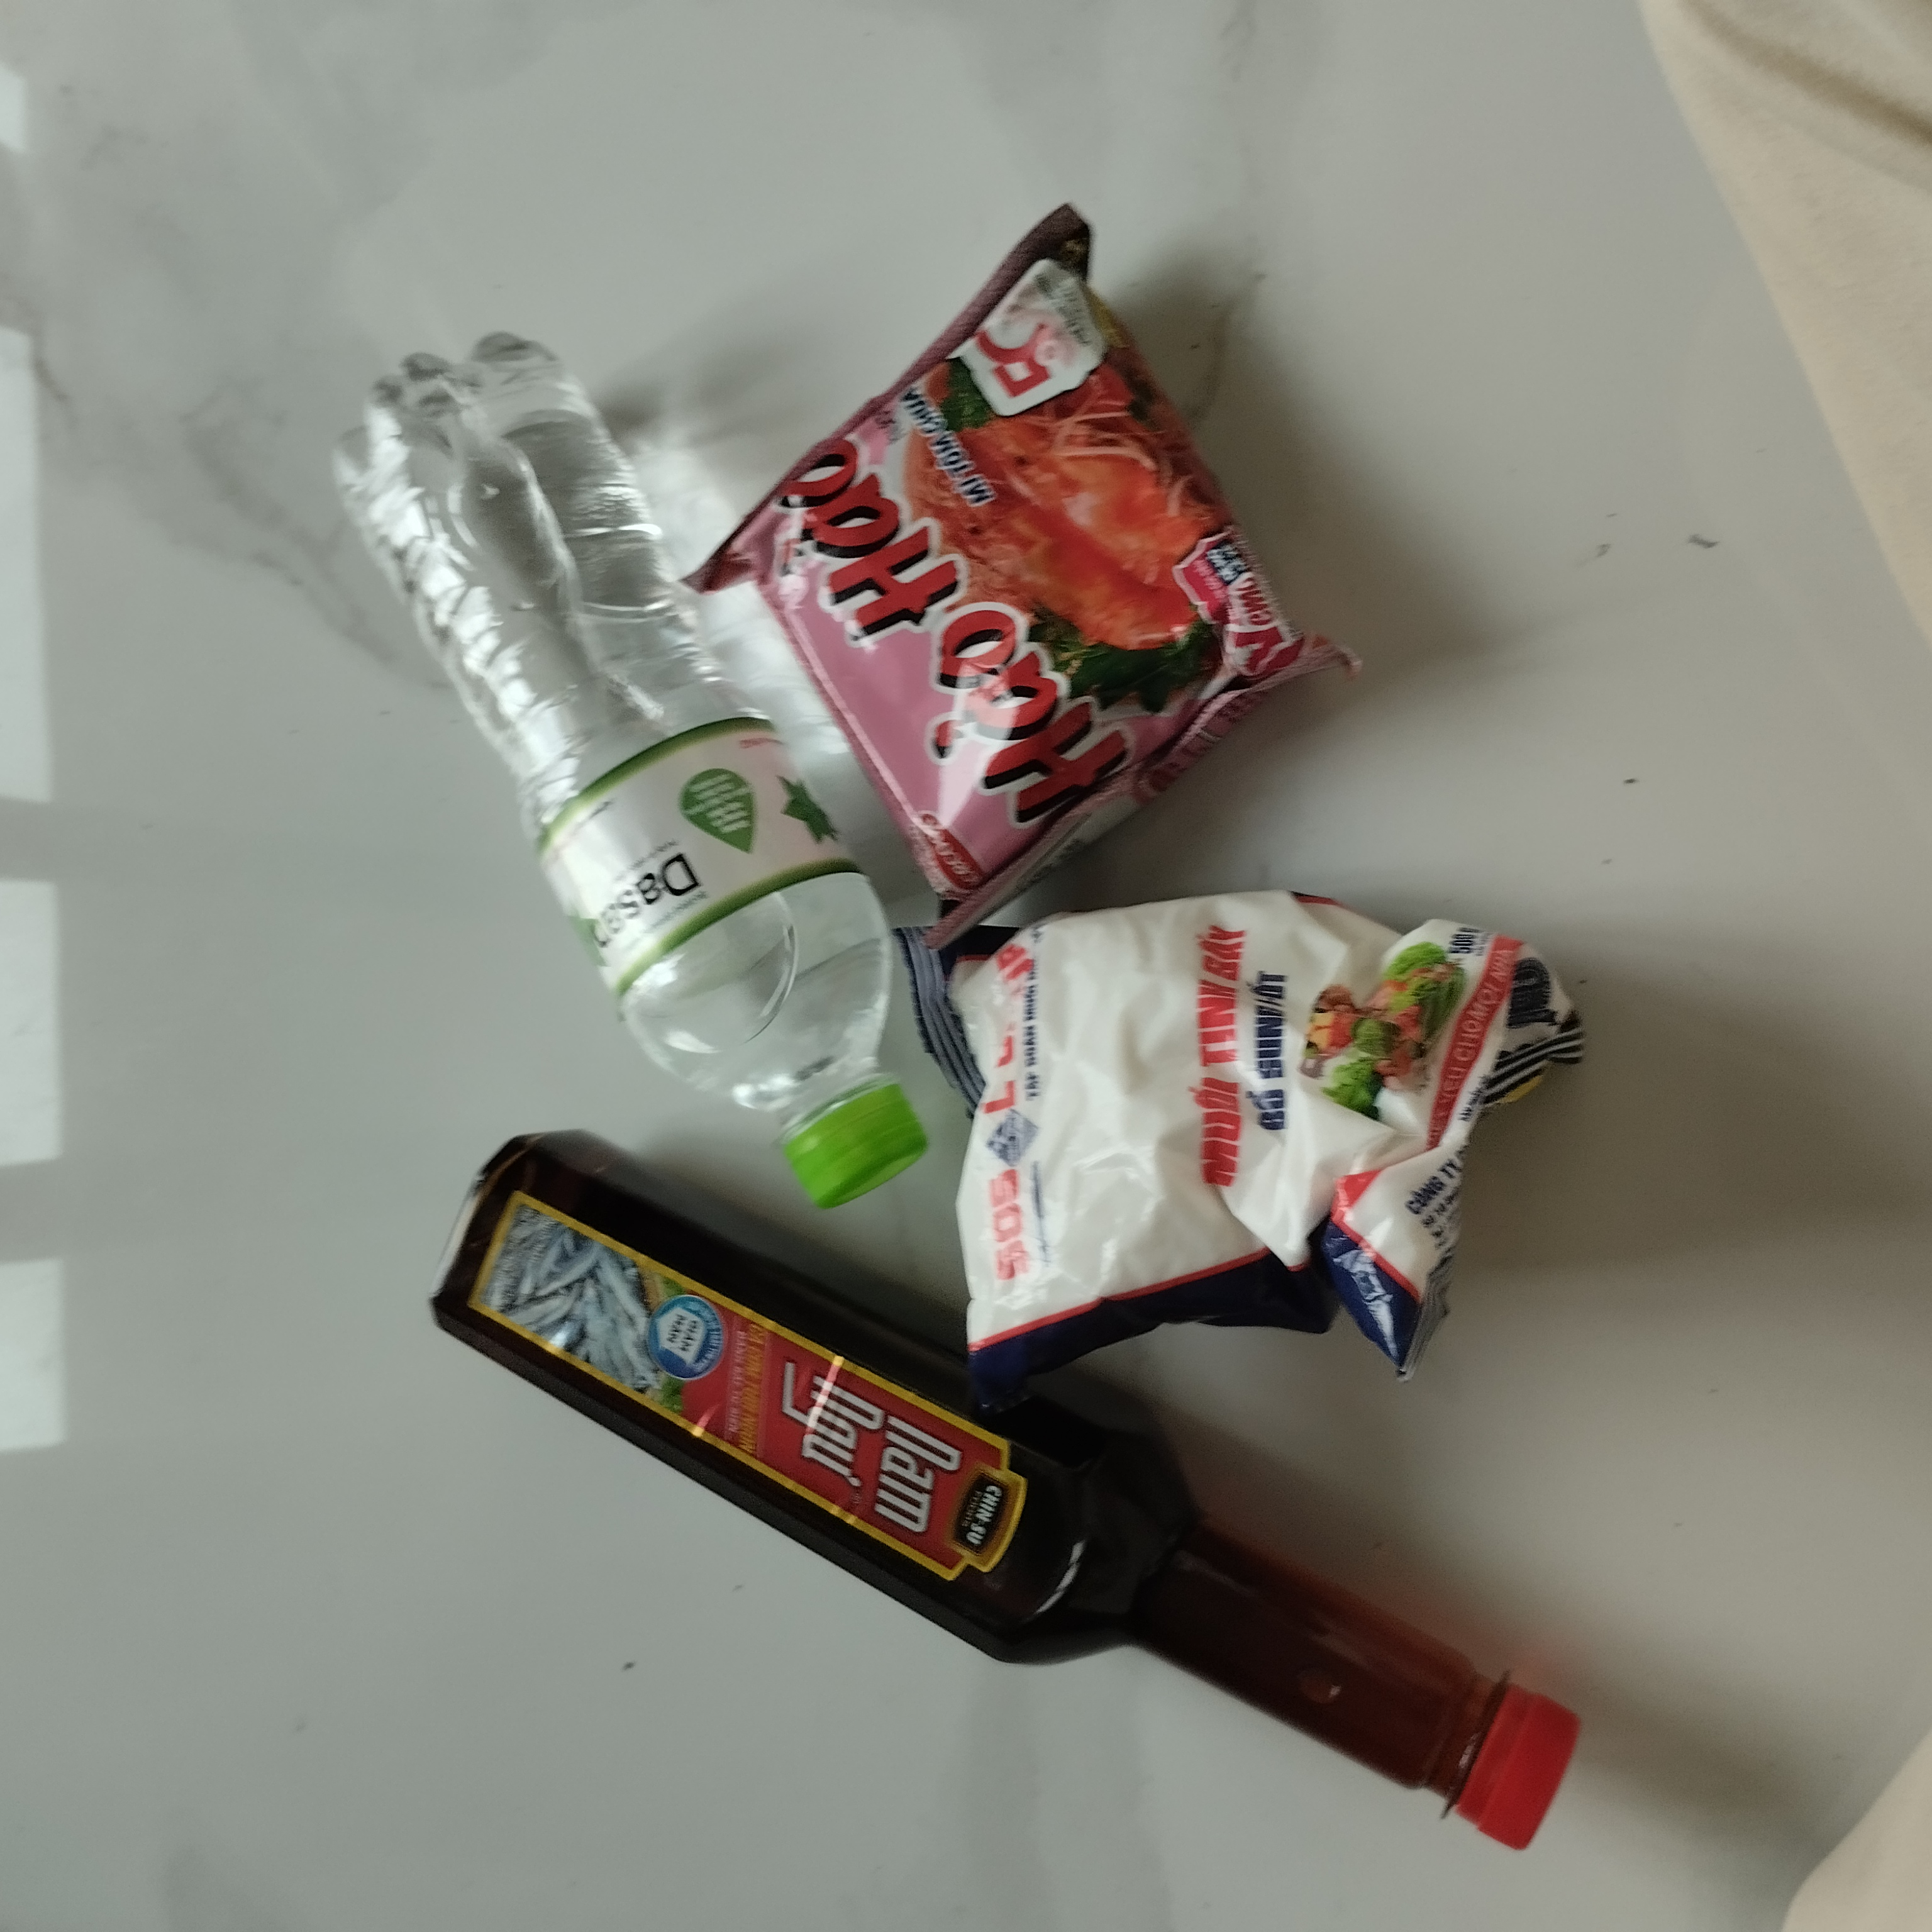Dasani: (324, 318, 936, 1208)
Haohao: (694, 219, 1343, 911)
Namngu: (425, 1125, 1598, 1858)
Salt: (906, 892, 1594, 1382)
